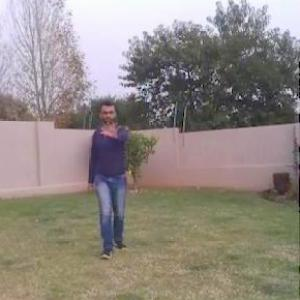follow_hand: (98, 116, 121, 138)
